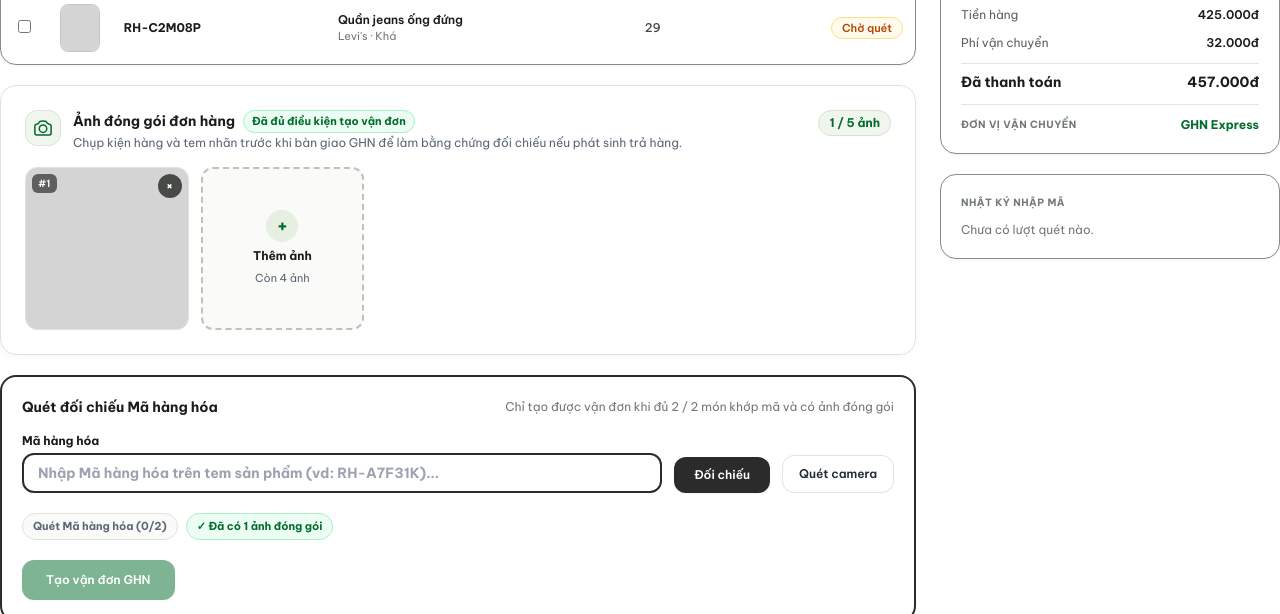
L-04 Moderator Packing Wireframe Test Suite (DG-01 to DG-04) › DG-03 & DG-03-SaiMon: Scans SKU and opens warning modal when wrong SKU is scanned
The width and height of the screenshot is (1280, 614).
(page scrolled)
Type "RH-K9B47T" into the field labelled "Mã hàng hóa" at [342, 473], box [22,453,662,493]
Click the button "Đối chiếu" at [722, 475], box [674,457,770,493]
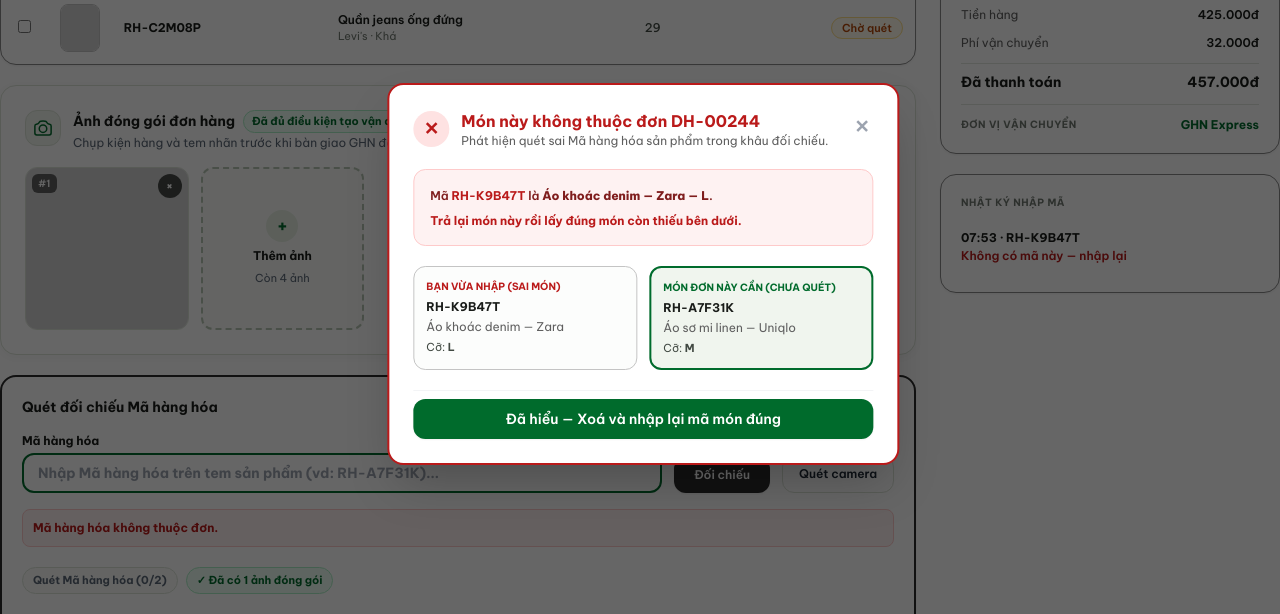
Expected: the heading "Món này không thuộc đơn DH-00244" is shown, [461,111,760,131]
Expected: the text "Áo khoác denim — Zara — L" is shown, [542,188,709,203]
Click the button "Đã hiểu — Xoá và nhập lại mã món đúng" at [643, 419], box [413,399,873,439]
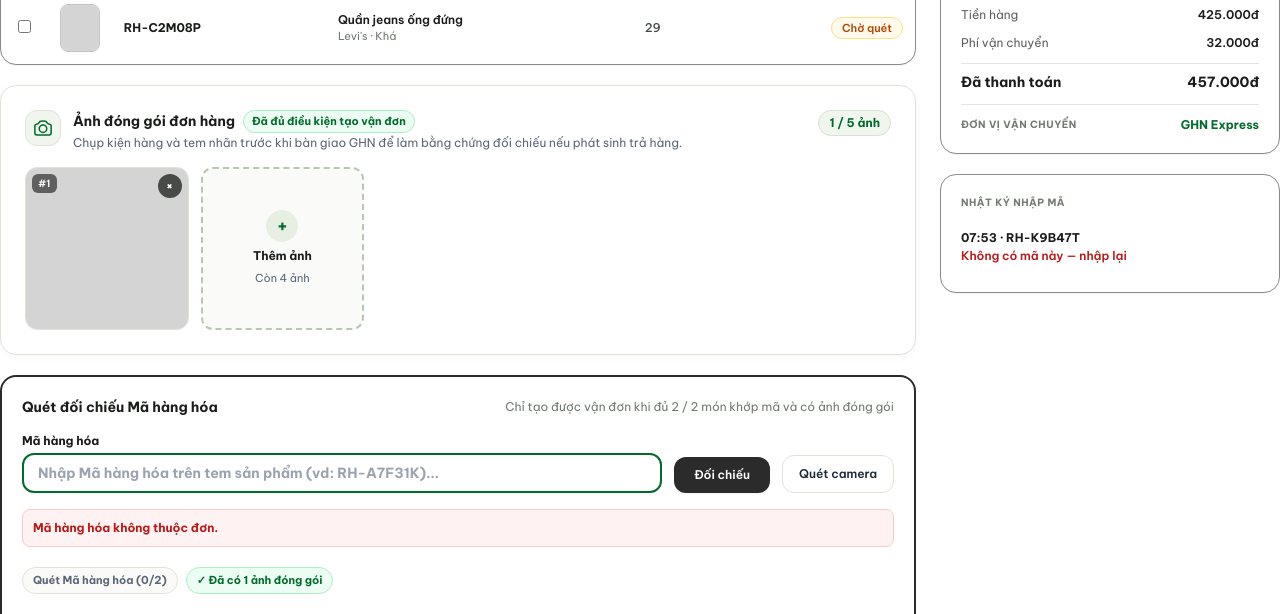
Type "RH-A7F31K" into the field labelled "Mã hàng hóa" at [342, 473], box [22,453,662,493]
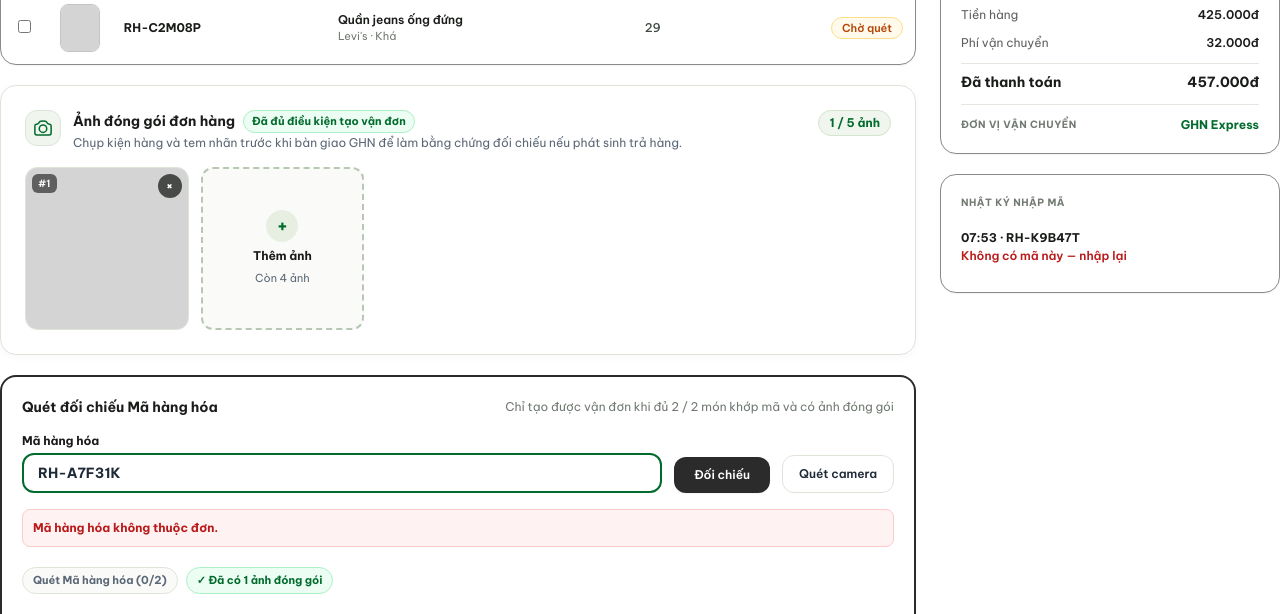
Click the button "Đối chiếu" at [722, 475], box [674,457,770,493]
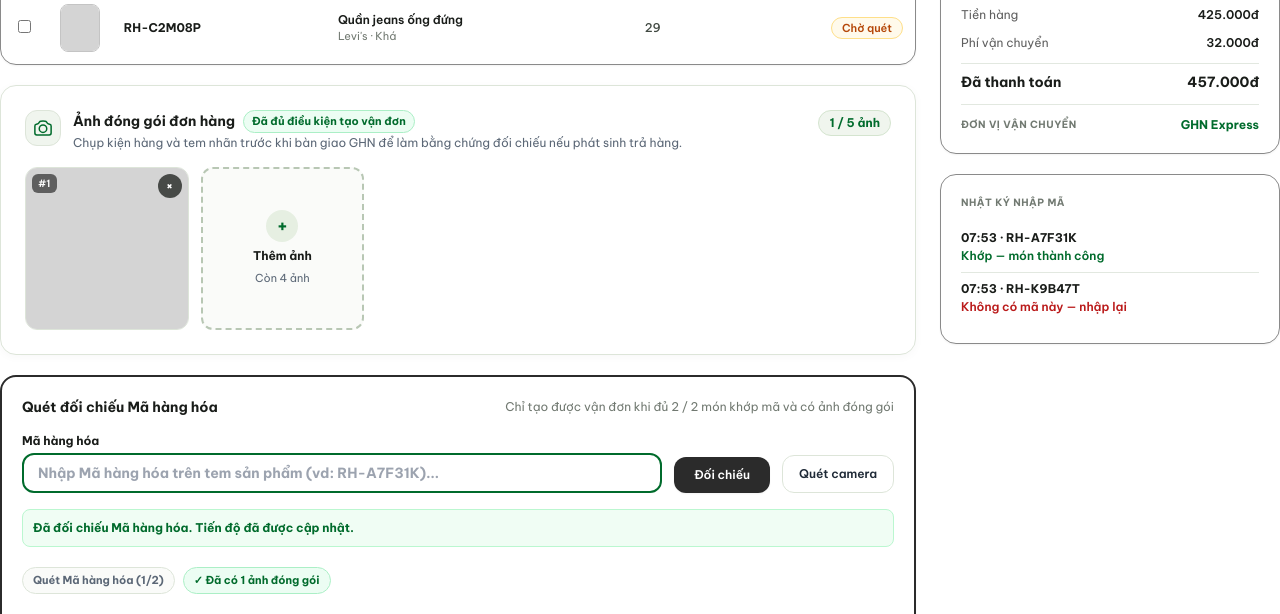
Type "RH-C2M08P" into the field labelled "Mã hàng hóa" at [342, 473], box [22,453,662,493]
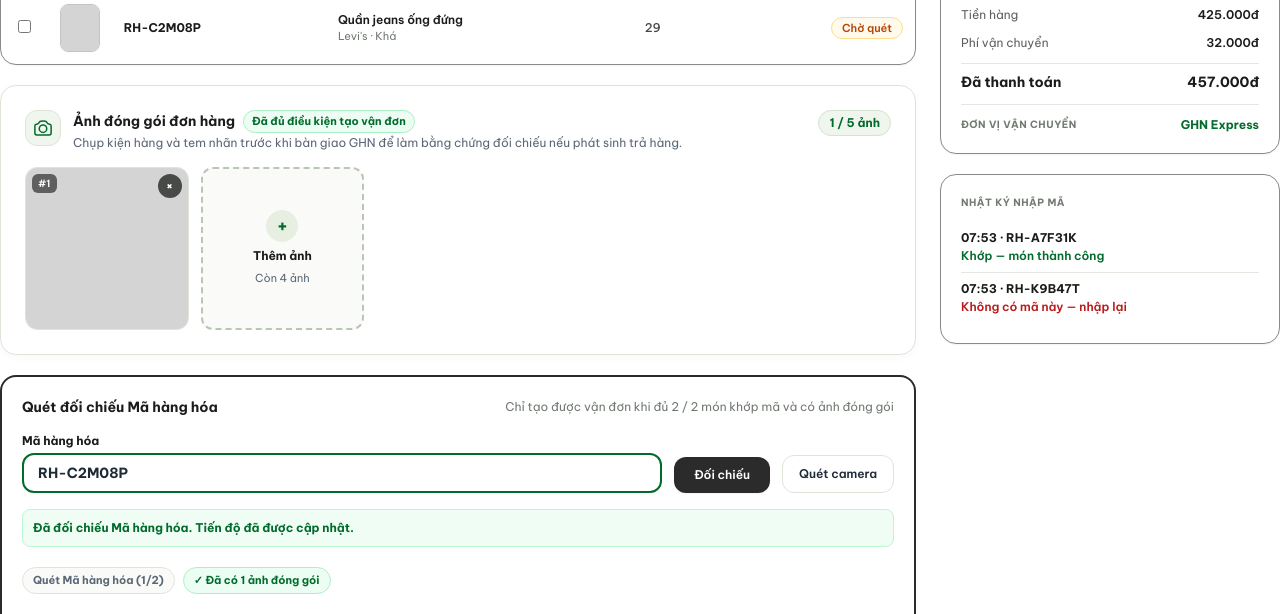
Click the button "Đối chiếu" at [722, 475], box [674,457,770,493]
(page scrolled)
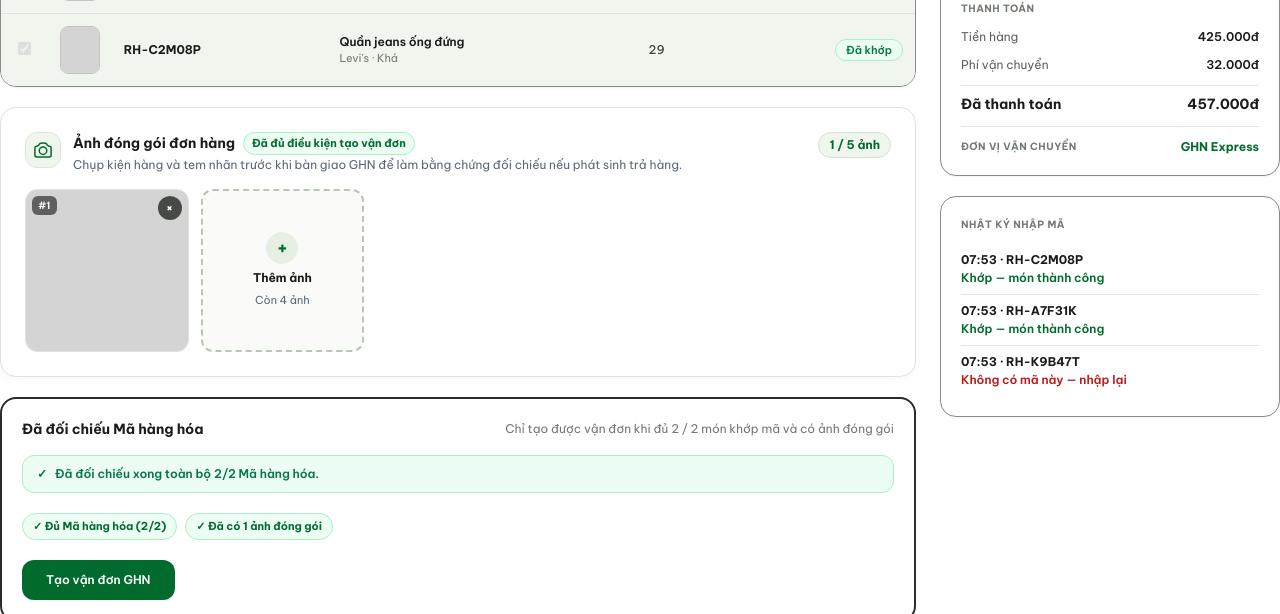
Expected: the button "Tạo vận đơn GHN" is enabled, [22,560,174,600]
